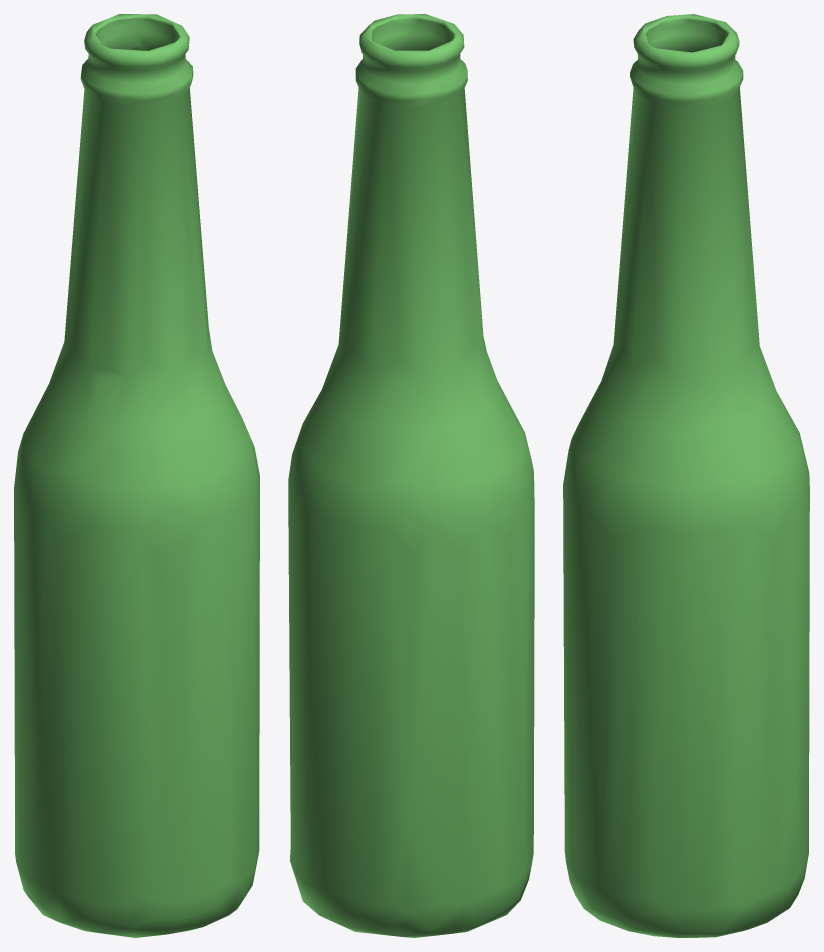
The model's file is GlassBottle.fbx.
3 views of the same model, side by side, from view 1: azimuth 30°, elevation 25°; view 2: azimuth 150°, elevation 25°; view 3: azimuth 270°, elevation 25° (orthographic).
Visible parts, largest first — view 1: Circle; view 2: Circle; view 3: Circle.
Part boxes in pixels (<box>): Circle: <box>14,14,259,937</box>; Circle: <box>288,14,534,937</box>; Circle: <box>563,14,809,937</box>.
Bounding box in the file's own units: 94.72 × 365 × 94.72.
